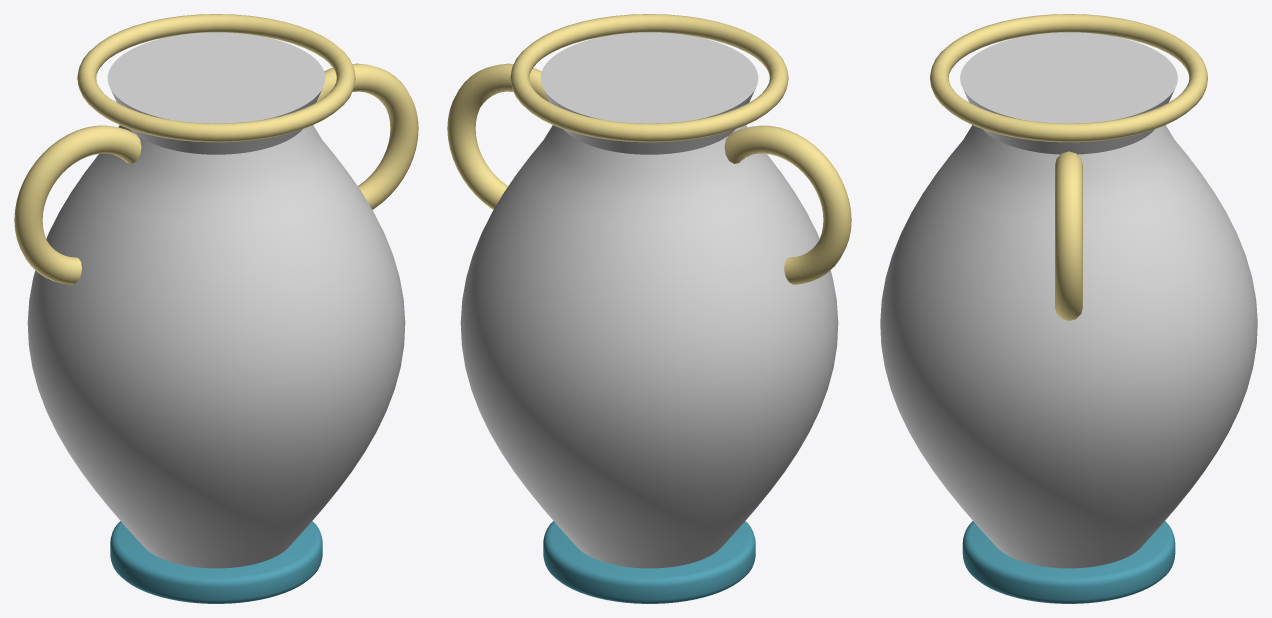
File: vase.fbx
3 renders of one model, left to right at view 1: azimuth 30°, elevation 25°; view 2: azimuth 150°, elevation 25°; view 3: azimuth 270°, elevation 25°, orthographic.
Visible parts, largest first — view 1: Cylinder; view 2: Cylinder; view 3: Cylinder.
Part boxes in pixels (x1=…): Cylinder: x1=14, y1=14, x2=418, y2=603; Cylinder: x1=447, y1=14, x2=851, y2=603; Cylinder: x1=880, y1=14, x2=1257, y2=603.
Size of the model in its own units: 1.96 by 2.3 by 1.6.
